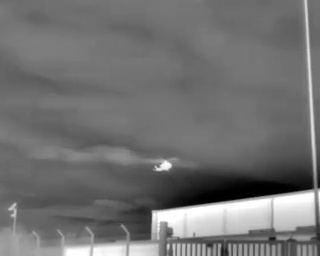HELICOPTER: (146, 151, 181, 177)
